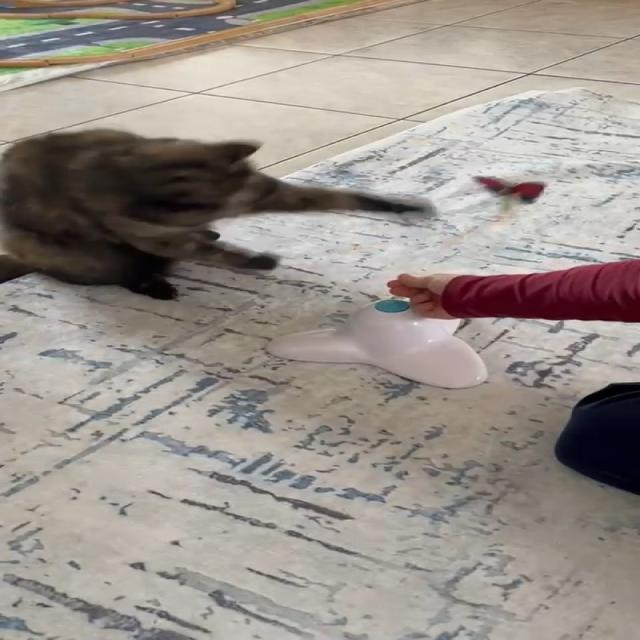authorized: (0, 127, 435, 300)
